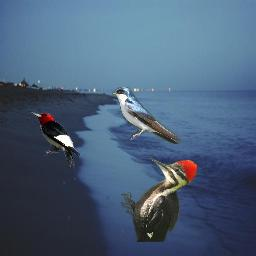Swallow: (112, 87, 181, 144)
Woodpecker: (121, 158, 197, 242), (30, 112, 82, 169)
